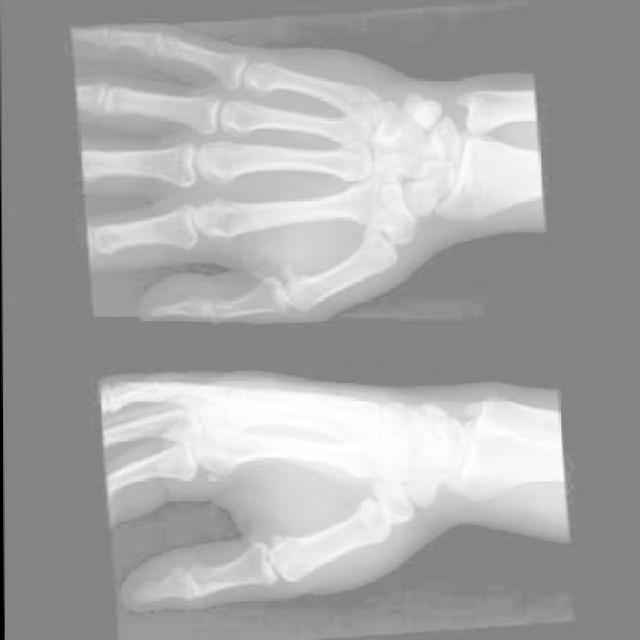Fracture: (343, 500, 388, 540), (346, 230, 383, 264)
